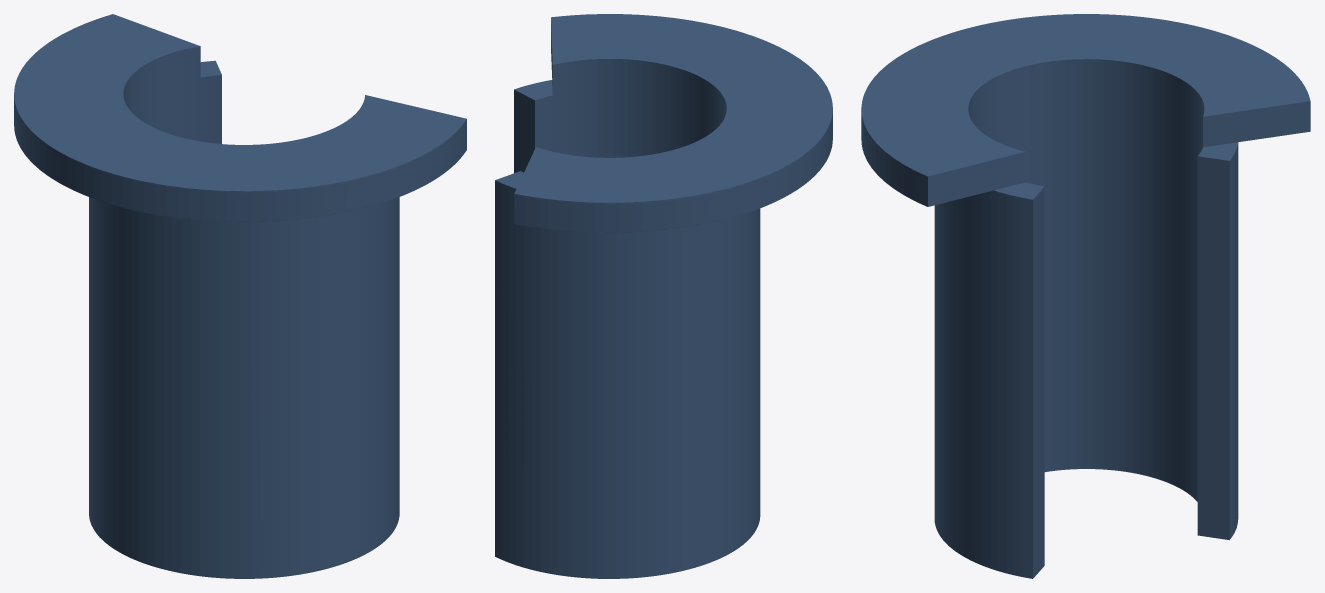
The model's file is VERGE_Model_Refrigerator_3.obj.
3 renders of one model, left to right at view 1: azimuth 30°, elevation 25°; view 2: azimuth 150°, elevation 25°; view 3: azimuth 270°, elevation 25°, orthographic. The views are drawn at different scales.
Parts seen in each view (by area): view 1: VERGE_Model_Refrigerator_3; view 2: VERGE_Model_Refrigerator_3; view 3: VERGE_Model_Refrigerator_3.
Boxes of the visible parts, x1=… form: VERGE_Model_Refrigerator_3: x1=14, y1=14, x2=466, y2=578; VERGE_Model_Refrigerator_3: x1=495, y1=14, x2=832, y2=578; VERGE_Model_Refrigerator_3: x1=861, y1=14, x2=1310, y2=578.
Size of the model in its own units: 17.1 by 20.1 by 19.96.
